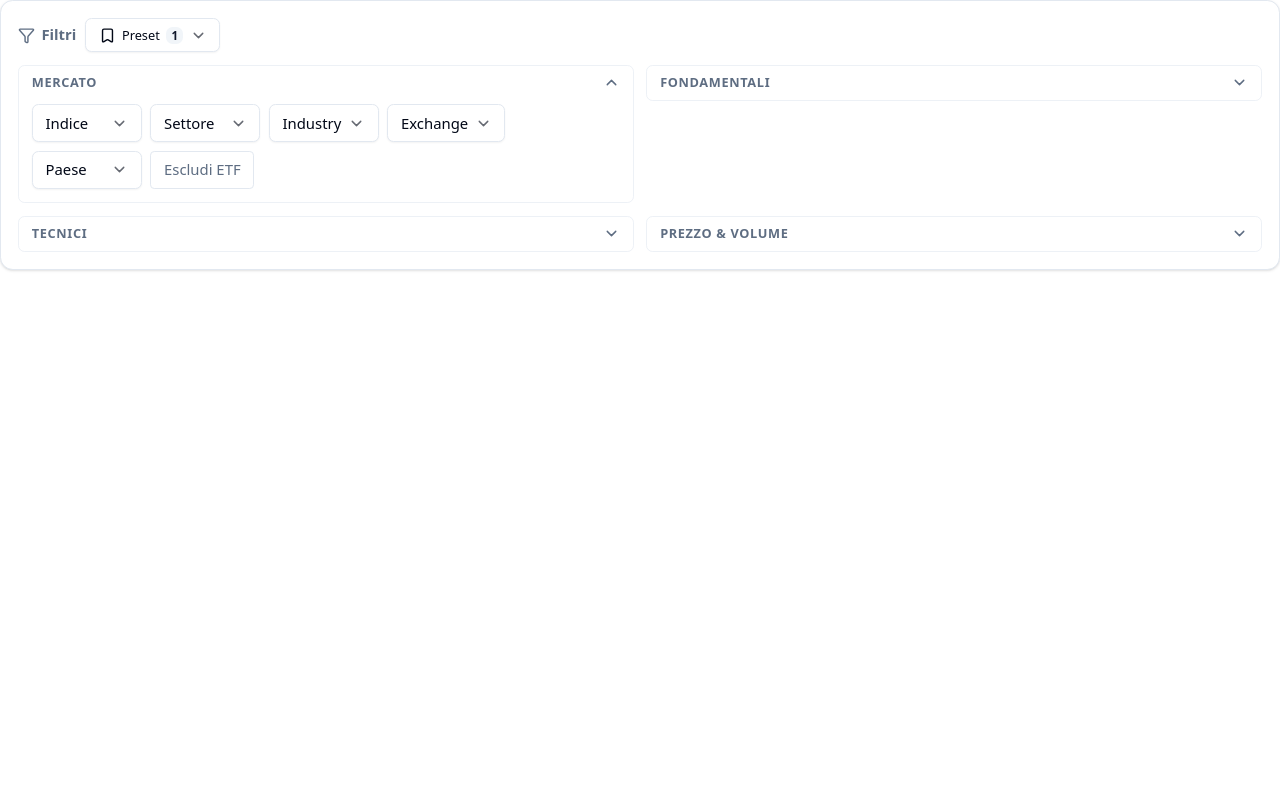
i preset gia nel browser non vengono persi › mostra una vecchia voce salvata come solo filtri
Click the button "Preset 1".
click(153, 35)  # box [85, 18, 220, 52]
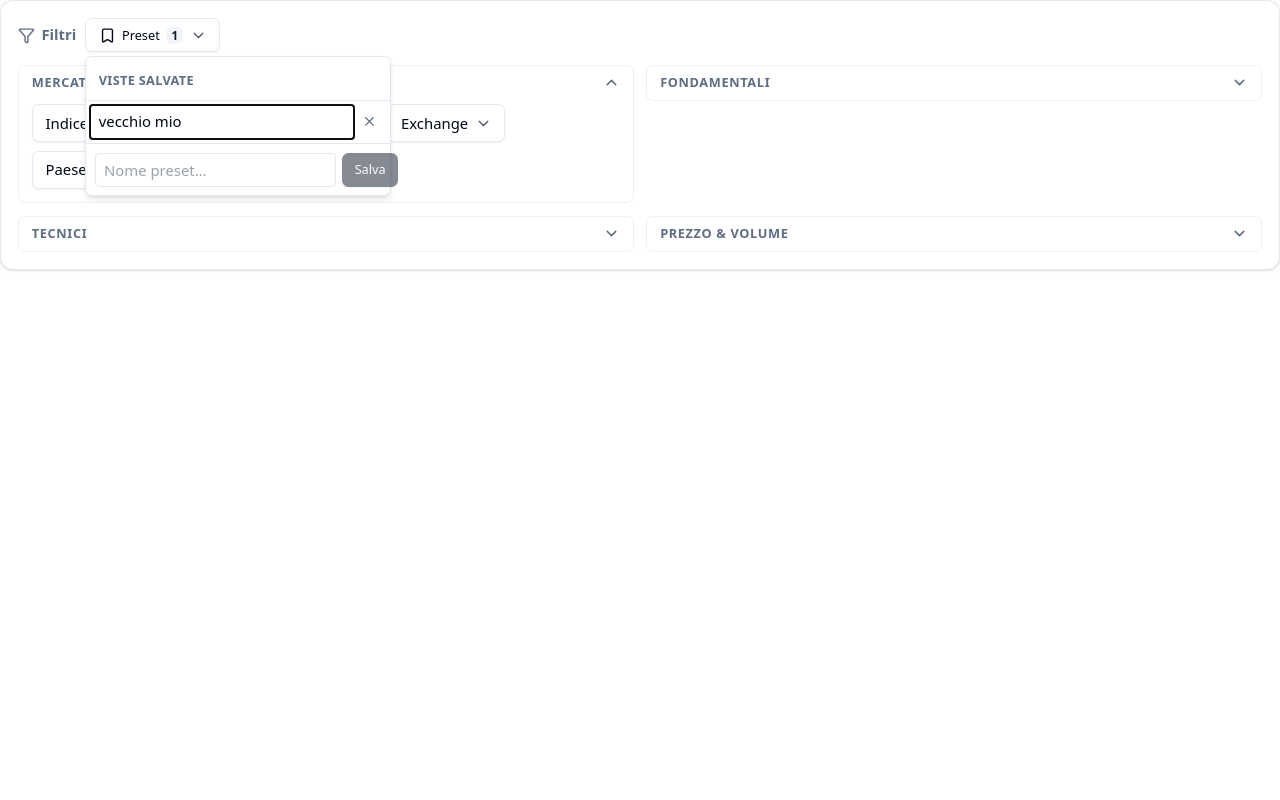
Check: the button "vecchio mio" is shown, box [90, 105, 354, 139]
